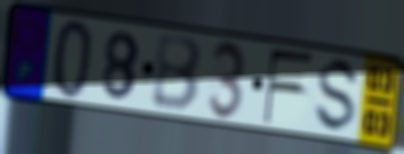0: (49, 18, 95, 101)
3: (206, 38, 248, 123)
8: (101, 29, 140, 102)
B: (150, 34, 205, 115)
F: (261, 47, 316, 127)
S: (311, 56, 363, 135)
